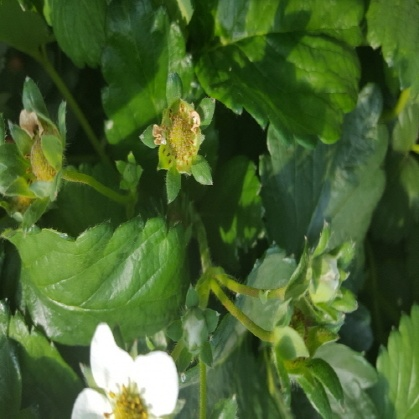Blossom_BT: (167, 119, 259, 316)
